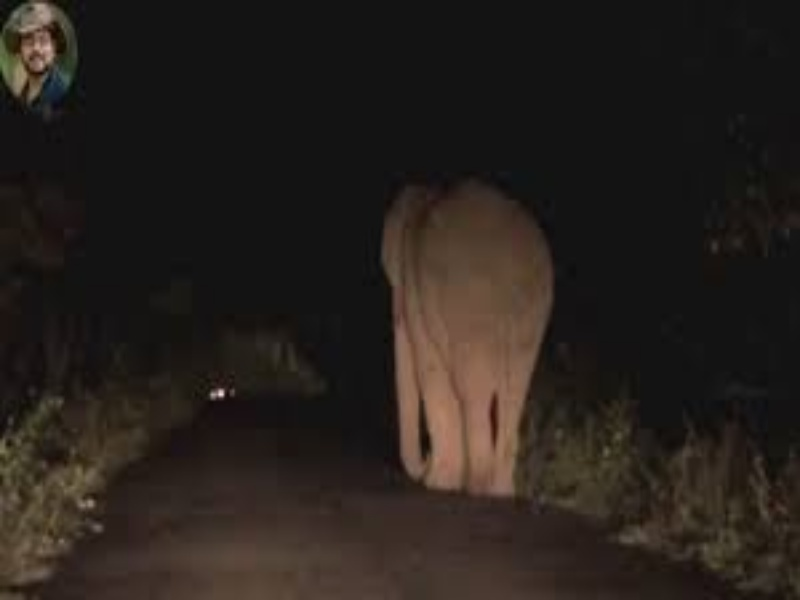elephant: (351, 141, 616, 518)
